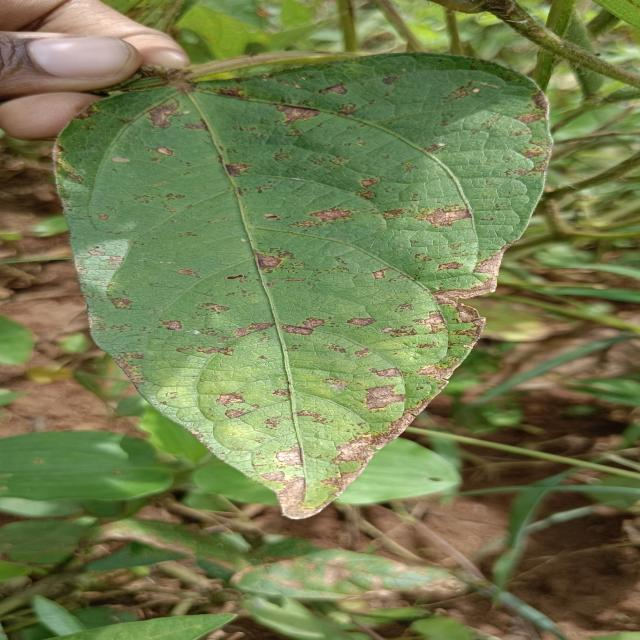Black gram_leaf spot: (39, 48, 559, 522)
